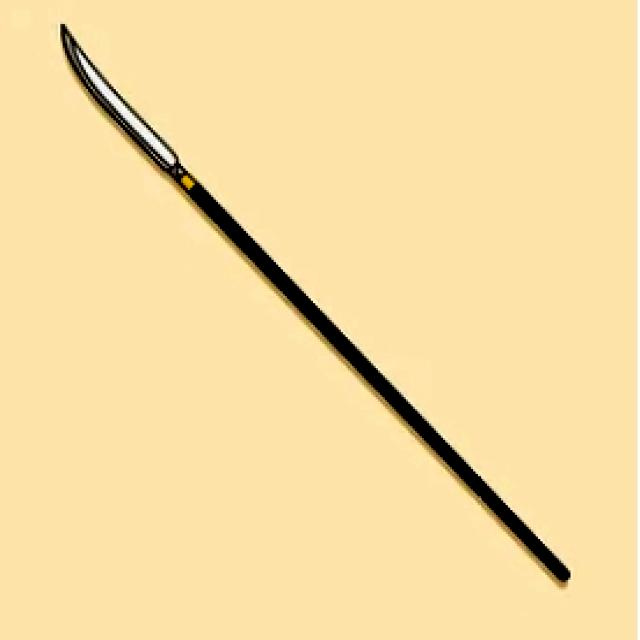spear: (26, 6, 577, 615)
